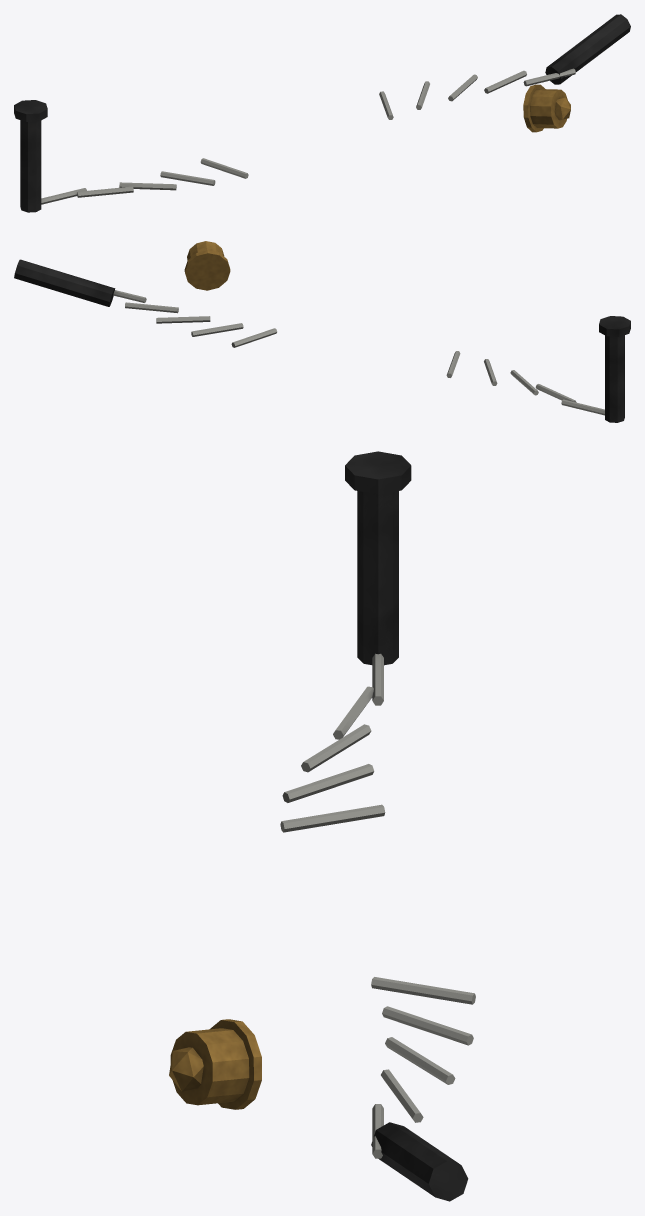
The model's file is trap_siracusa_light_sprung.glb.
The picture shows the model from 3 angles, top to bottom: view 1: azimuth 30°, elevation 25°; view 2: azimuth 150°, elevation 25°; view 3: azimuth 270°, elevation 25°; orthographic projection. The views are drawn at different scales.
Parts seen in each view (by area): view 1: trap_siracusa_light_sprung; view 2: trap_siracusa_light_sprung; view 3: trap_siracusa_light_sprung.
Part boxes in pixels (bbox=[...]): trap_siracusa_light_sprung: bbox=[14, 14, 630, 212]; trap_siracusa_light_sprung: bbox=[14, 241, 630, 422]; trap_siracusa_light_sprung: bbox=[169, 451, 475, 1201].
Size of the model in its own units: 1.66 by 0.2757 by 0.3693.
Materials: 3 (3 with a texture image).
